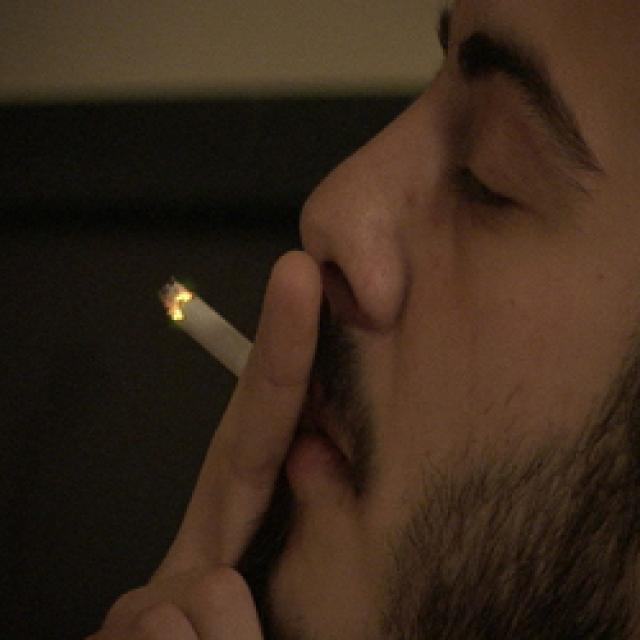Smooking: (148, 269, 254, 372)
